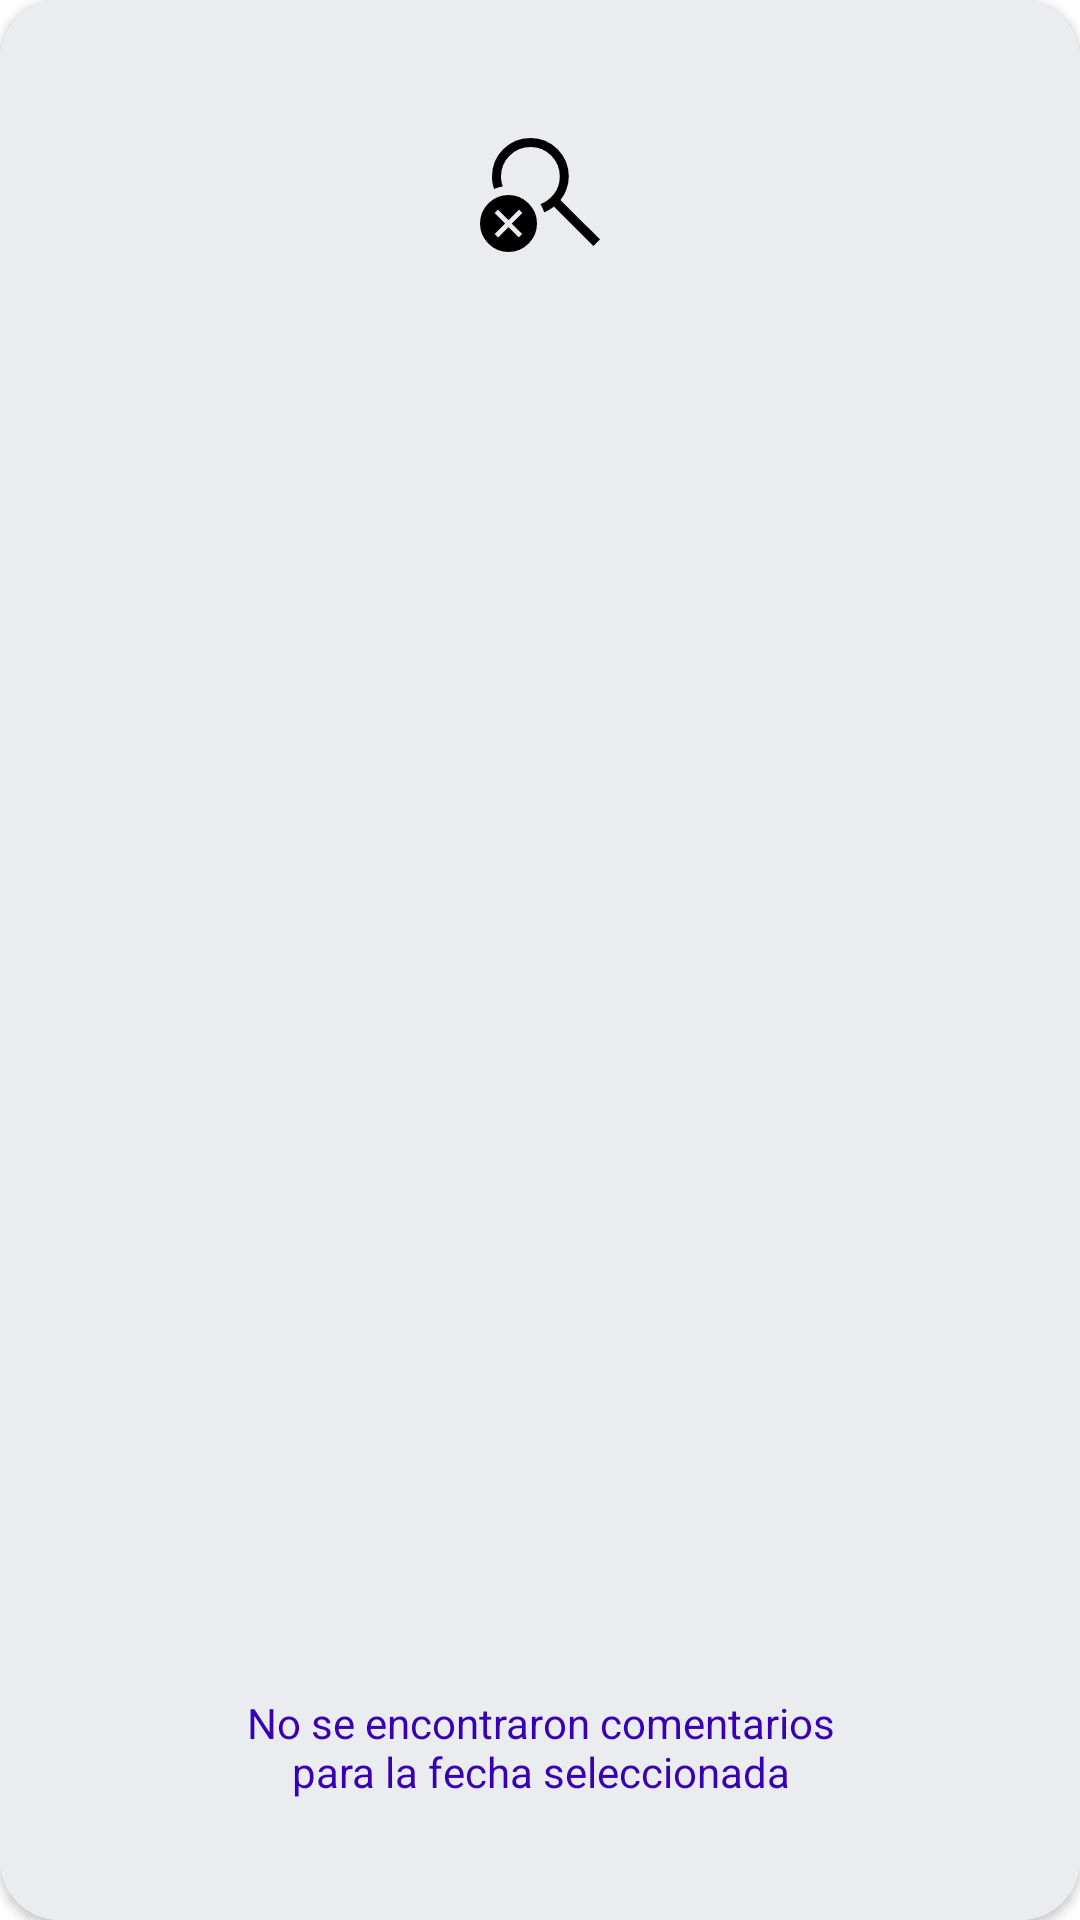

Screen size 1080 × 1920. Icon name, then its box in pixels as (x1, y1, x2, y2):
not found: (480, 138, 600, 252)
